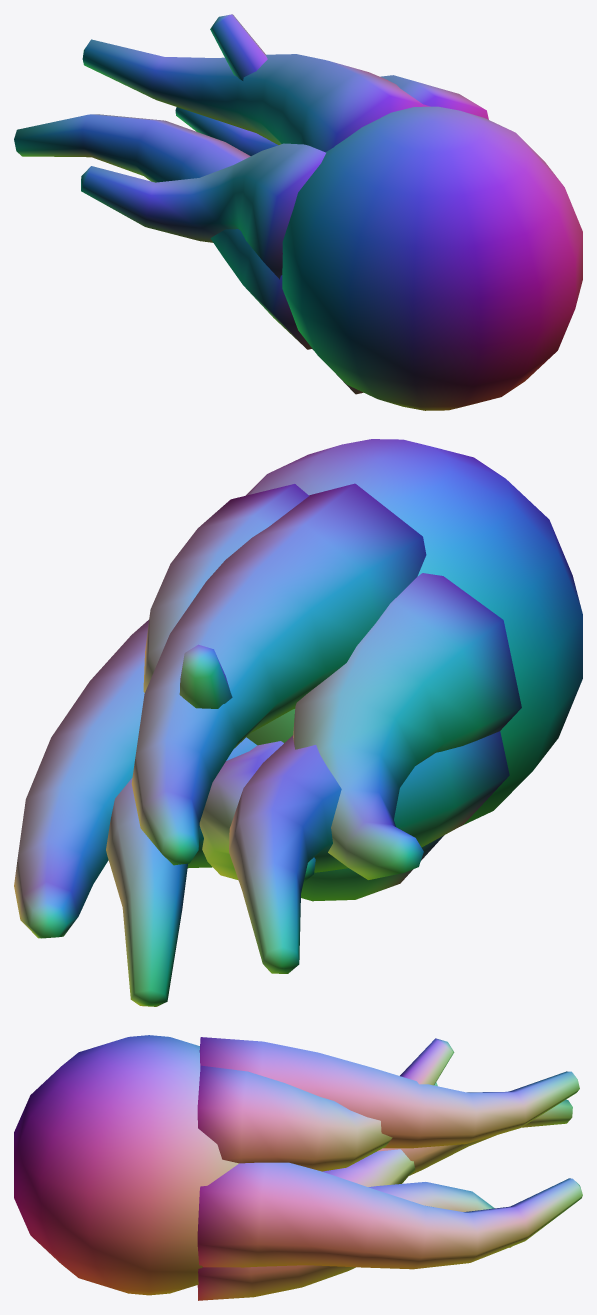
The model's file is SM_FX_Fireball.fbx.
The picture shows the model from 3 angles, top to bottom: view 1: azimuth 30°, elevation 25°; view 2: azimuth 150°, elevation 25°; view 3: azimuth 270°, elevation 25°; orthographic projection. The views are drawn at different scales.
Parts seen in each view (by area): view 1: SM_FX_Fireball; view 2: SM_FX_Fireball; view 3: SM_FX_Fireball.
Boxes of the visible parts, bbox=[...] form: SM_FX_Fireball: bbox=[14, 14, 582, 410]; SM_FX_Fireball: bbox=[14, 439, 582, 1006]; SM_FX_Fireball: bbox=[14, 1035, 582, 1300].
Size of the model in its own units: 0.3145 by 0.2703 by 0.5575.
